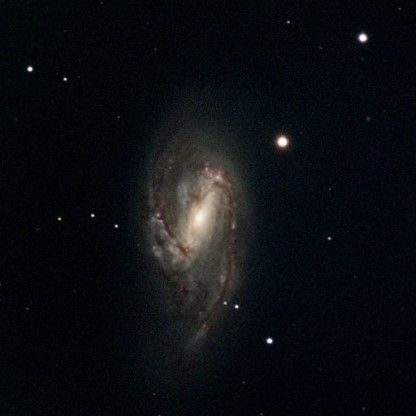Messier 66: (126, 110, 300, 356)
